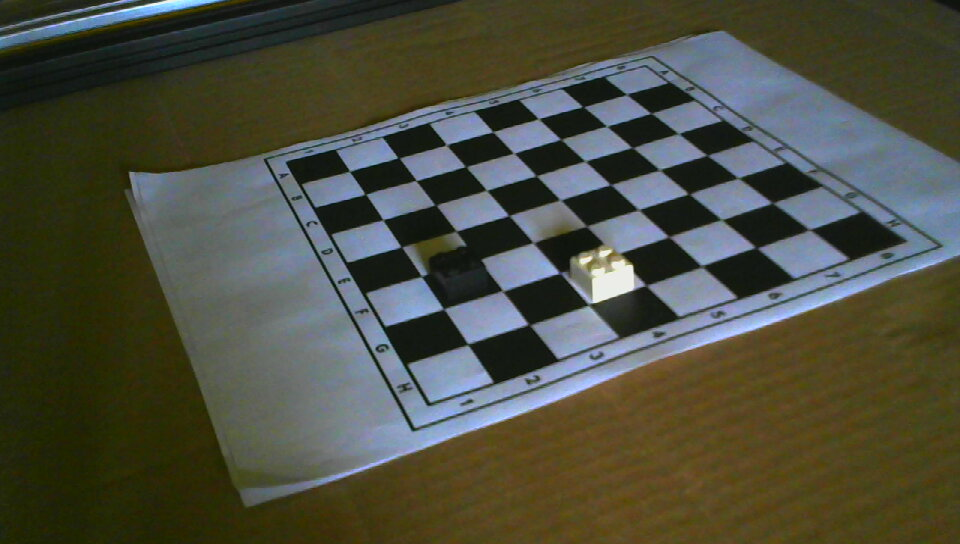bp: (428, 246, 487, 302)
wp: (570, 245, 634, 301)
